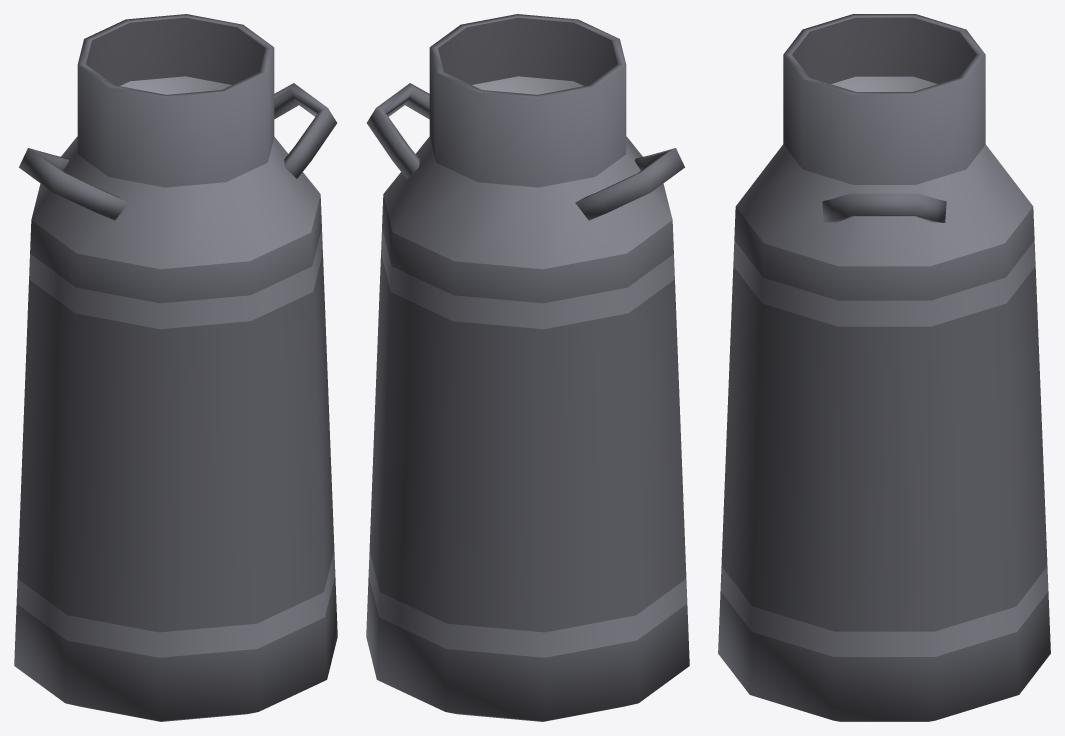
Rendered from Milk 1.glb.
The picture shows the model from 3 angles, left to right: view 1: azimuth 30°, elevation 25°; view 2: azimuth 150°, elevation 25°; view 3: azimuth 270°, elevation 25°; orthographic projection.
Visible parts, largest first — view 1: Milk 1; view 2: Milk 1; view 3: Milk 1.
Boxes of the visible parts, left/top/right/bottom form: Milk 1: left=14, top=14, right=337, bottom=721; Milk 1: left=366, top=14, right=689, bottom=721; Milk 1: left=718, top=14, right=1050, bottom=721.
Size of what is drawn, in the model's own units: 0.3517 by 0.7158 by 0.3542.
1 material, 1 textured.
